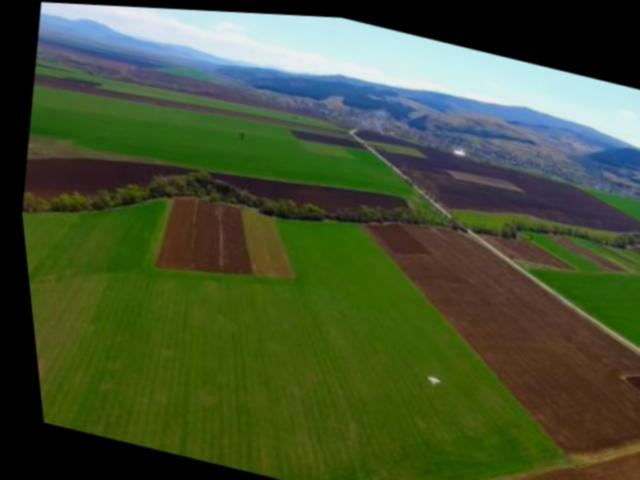uav: (416, 363, 439, 387)
